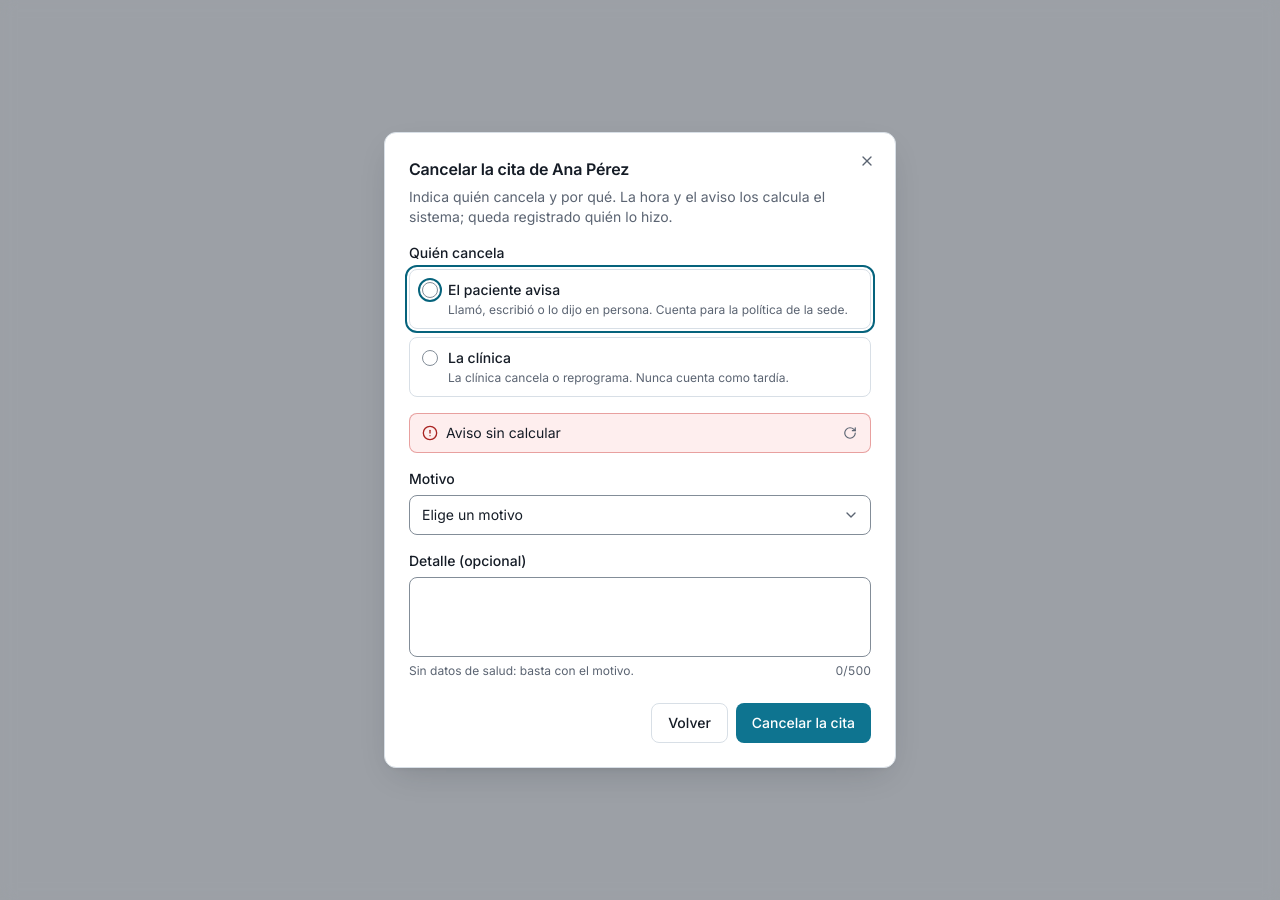
CancelAppointmentDialog (DX-279) › si el aviso no se pudo calcular, lo dice con reintento y deja cancelar
Click the radio button labelled "El paciente avisa" at (430, 290), box [422,282,438,298]
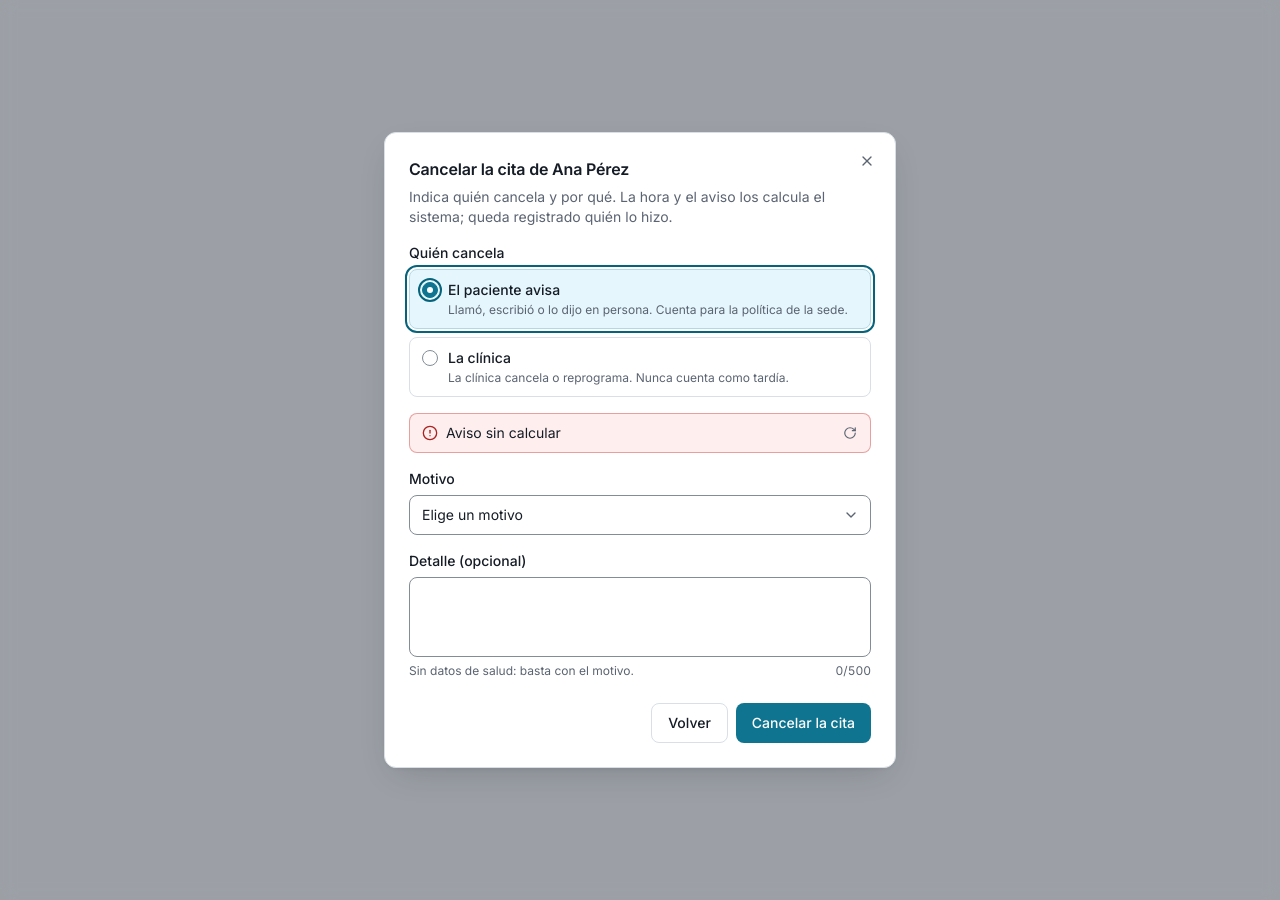
Expected: the text "Aviso sin calcular" is shown, [446,424,561,441]
Click the button named "Reintentar" at (850, 433), box [838,421,862,445]
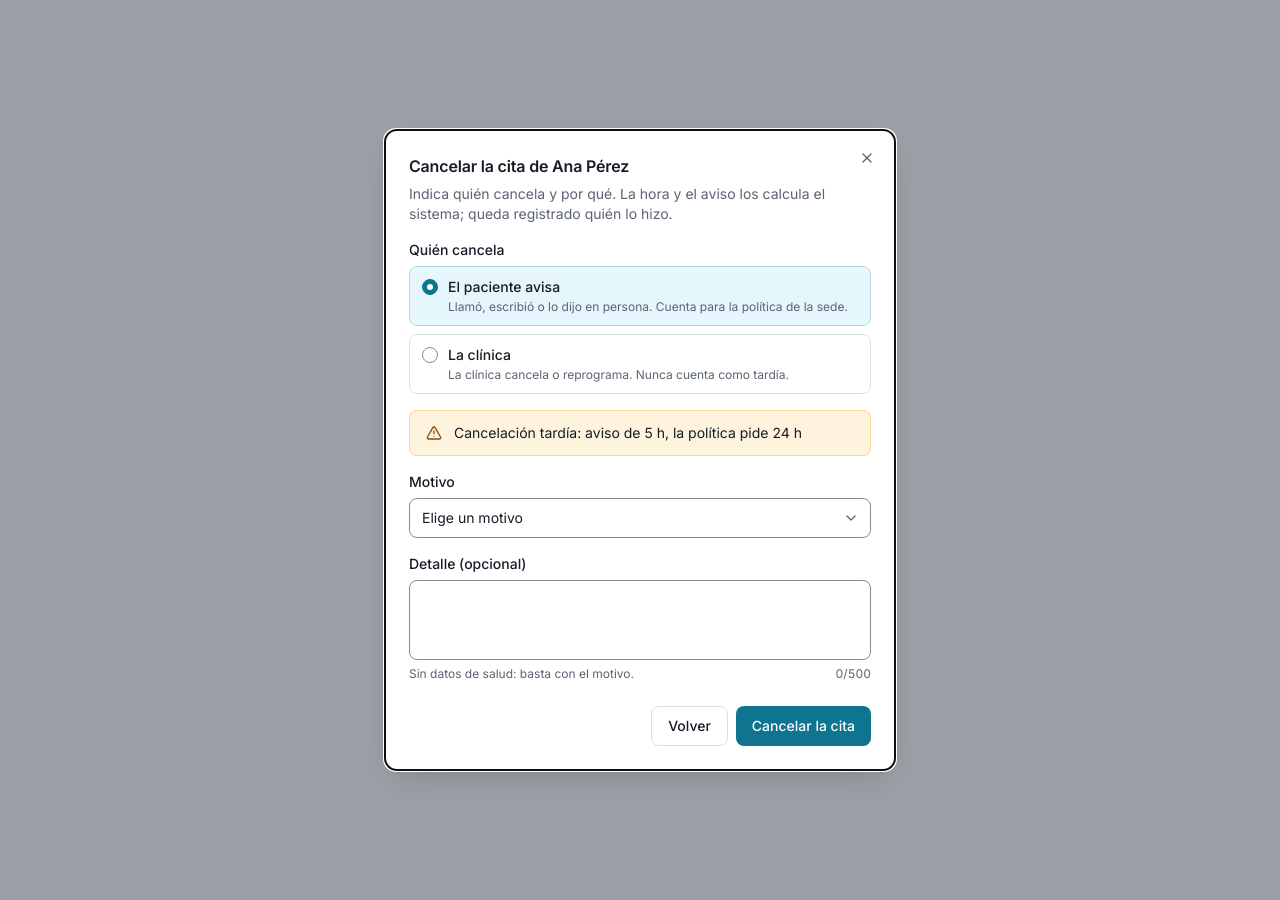
Now the message "Cancelación tardía: aviso de 5 h, la política pide 24 h" is shown, box [409,410,871,456]
